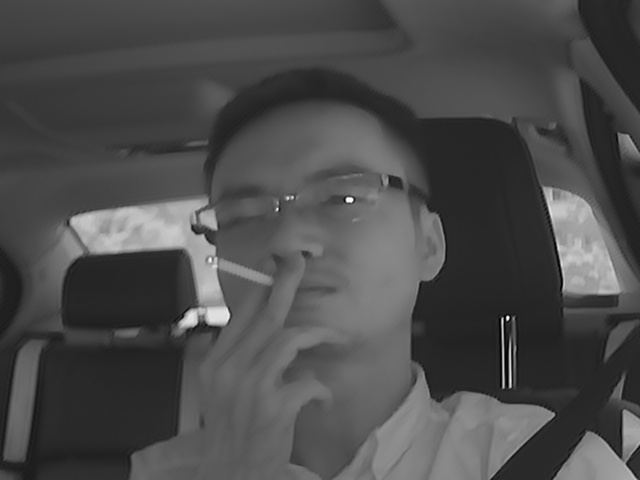hand: (217, 258, 348, 412)
